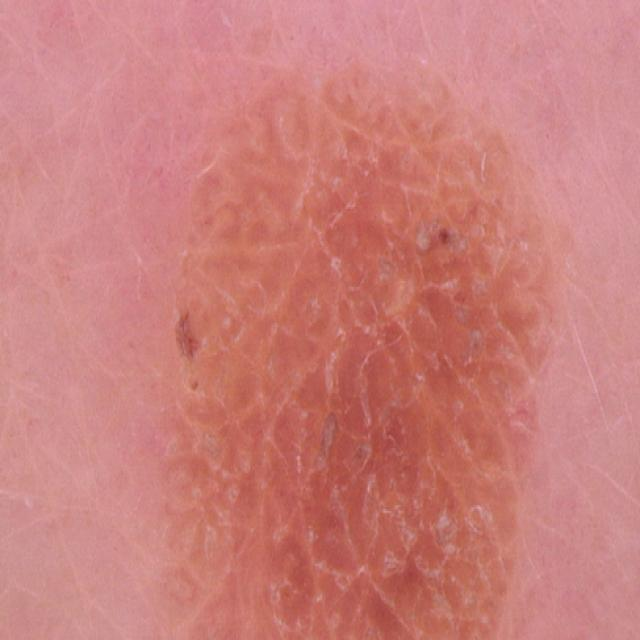Keratosis: (159, 38, 564, 640)
